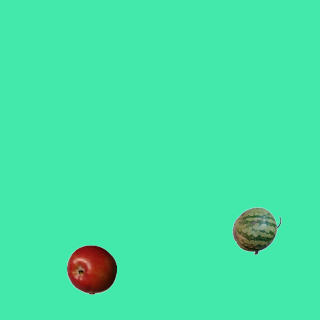Apple Braeburn: (66, 244, 116, 294)
Watermelon: (231, 205, 281, 255)
